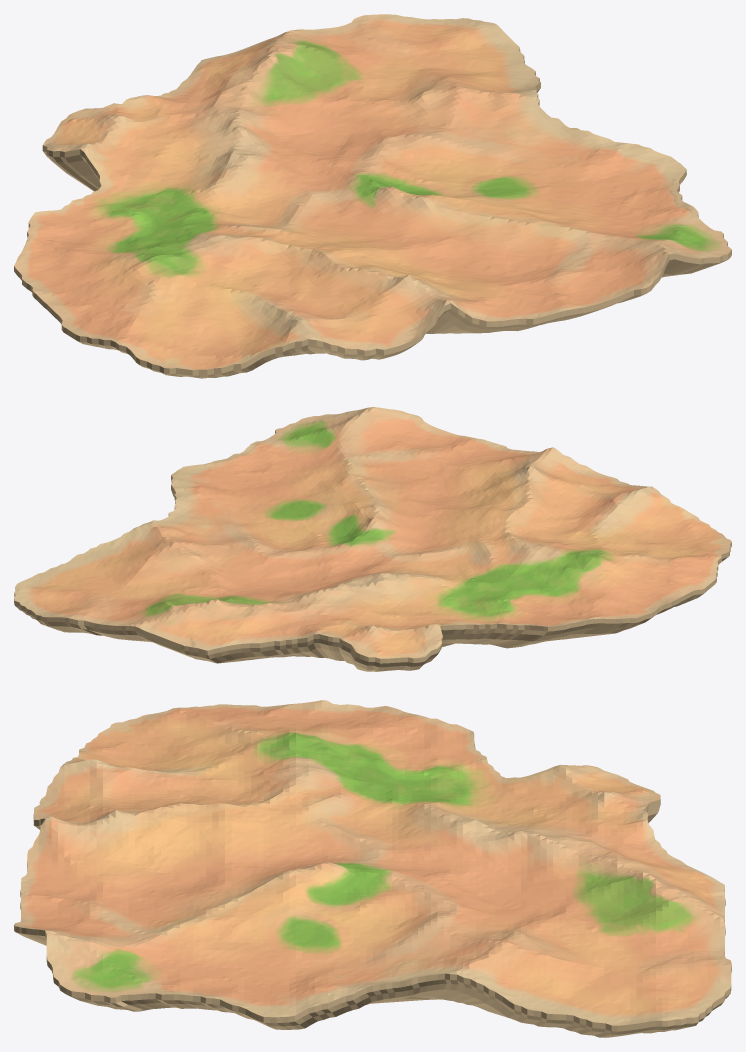
The model's file is Island.fbx.
The picture shows the model from 3 angles, top to bottom: view 1: azimuth 30°, elevation 25°; view 2: azimuth 150°, elevation 25°; view 3: azimuth 270°, elevation 25°; orthographic projection. The views are drawn at different scales.
Visible parts, largest first — view 1: Island; view 2: Island; view 3: Island.
Boxes of the visible parts, bbox=[...] form: Island: bbox=[14, 14, 731, 378]; Island: bbox=[14, 407, 731, 671]; Island: bbox=[14, 700, 731, 1037].
Size of the model in its own units: 23137 by 4127 by 22334.
Materials: 2 (1 with a texture image).
